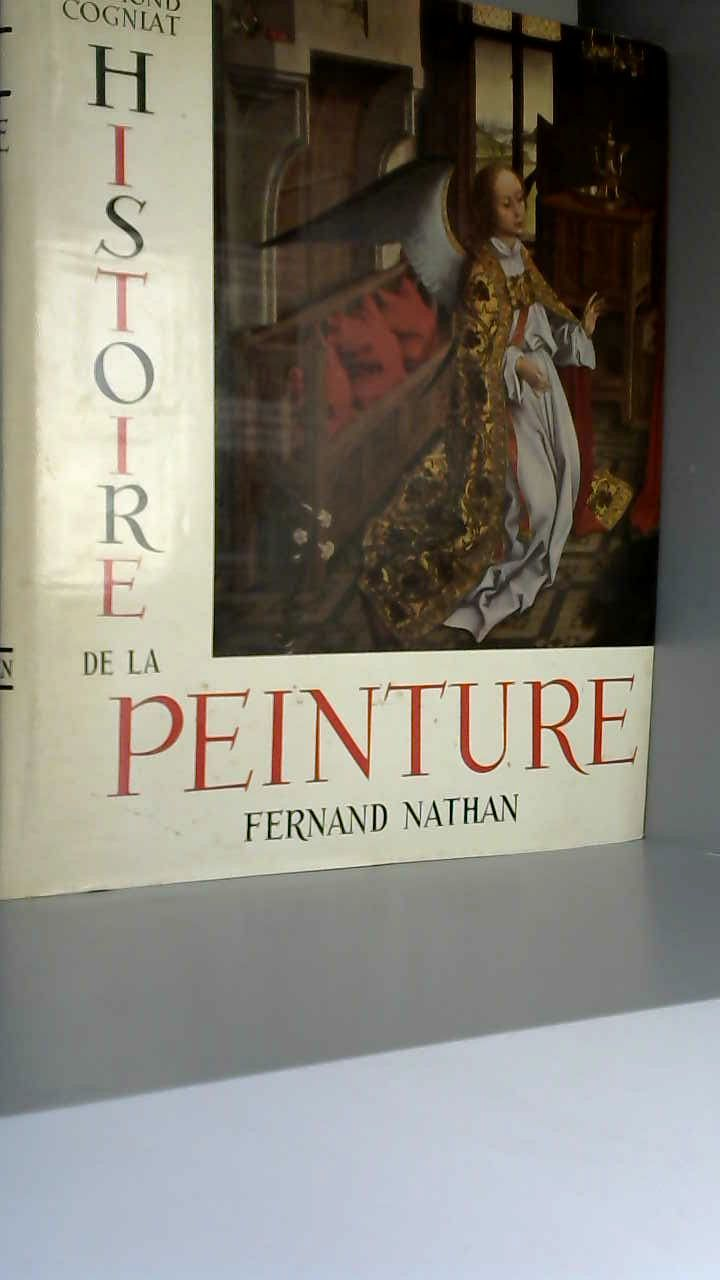book: (0, 0, 701, 931)
